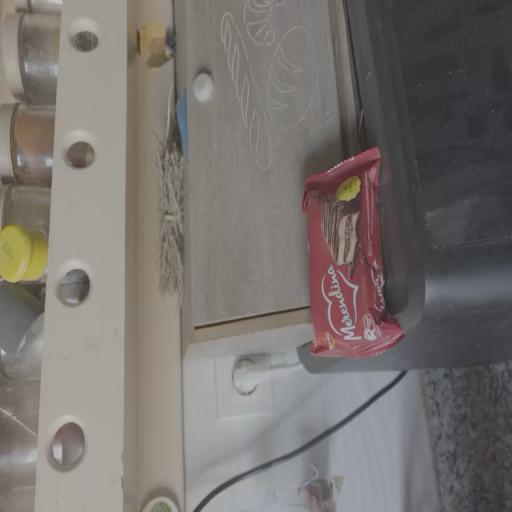merendina: (289, 138, 436, 391)
